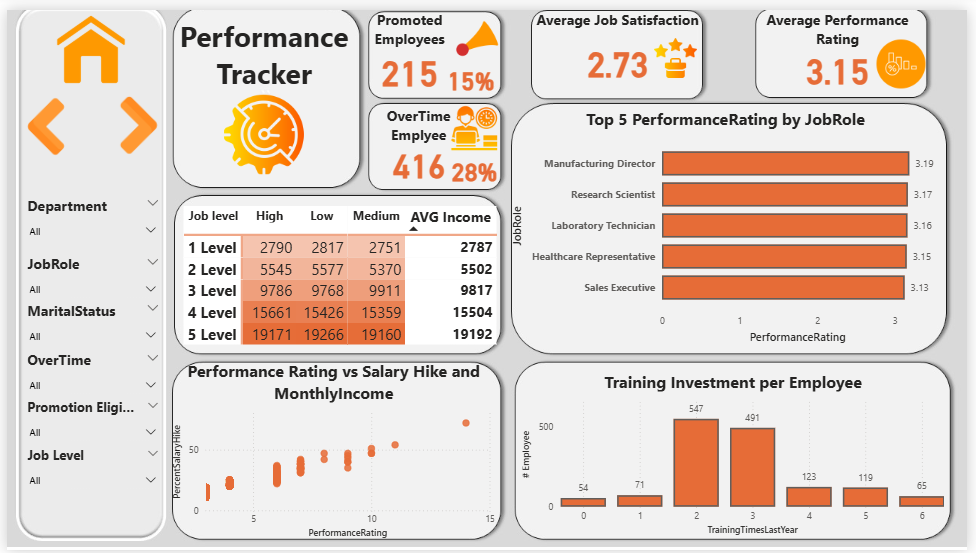

What the dashboard file says about the page in this screenshot:
{"tool":"powerbi","page":{"name":"Performance Tracker","canvas":[1280,720],"ordinal":3},"visuals":[{"type":"card","title":"# Promoted Employees","fields":{"Values":["_Measures.% Due Promotion"]},"box":[570.9,66.7,96,53.7],"z":0},{"type":"card","title":"#Overtime Employees","fields":{"Values":["_Measures.% Overtime"]},"box":[541.7,175.7,161,76.4],"z":0,"group":"g1"},{"type":"card","title":"Average Performance Rating","fields":{"Values":["_Measures.Avg Performance Rating"]},"box":[977,0,258.9,105.8],"z":1000,"group":"g3"},{"type":"scatterChart","title":"Performance Rating vs Salary Hike and MonthlyIncome","fields":{"X":["Sum(Data.PerformanceRating)"],"Y":["Sum(Data.PercentSalaryHike)"],"Category":["Data.MonthlyIncome"]},"box":[216.3,465.2,439.2,244],"z":1000},{"type":"clusteredColumnChart","title":"Training Investment per Employee ","fields":{"Y":["_Measures.Total Emp"],"Category":["Data.TrainingTimesLastYear"]},"box":[682.2,480,572.6,224.9],"z":2000},{"type":"clusteredBarChart","title":"Top 5 PerformanceRating by JobRole","fields":{"Category":["Data.JobRole"],"Y":["Avg(Data.PerformanceRating)"]},"box":[667.1,130.4,580.2,319.4],"z":3000},{"type":"card","title":"Average Job Satisfaction ","fields":{"Values":["_Measures.Avg Job Satisfaction"]},"box":[695.8,0,236.2,109.6],"z":4000,"group":"g2"},{"type":"pivotTable","title":"Satisfaction Across JobLevel & Income","fields":{"Rows":["Data.JobLevel2"],"Columns":["Data.JobSatisfaction_Level"],"Values":["_Measures.AVG Income"]},"box":[231,255.4,435.9,224.5],"z":4000},{"type":"card","title":"Promoted Employees","fields":{"Values":["_Measures.Due for Promotion"]},"box":[470.1,0,133.4,109],"z":5000},{"type":"image","box":[588.8,0,78.1,74.8],"z":6000},{"type":"textbox","box":[216.3,4.9,253.7,115.5],"z":7000},{"type":"image","box":[831.9,26.5,119.1,75.6],"z":8000,"group":"g2"},{"type":"image","box":[216.3,100.8,253.7,131.8],"z":8000},{"type":"card","title":"OverTime Emplyee","fields":{"Values":["_Measures.OverTime"]},"box":[470.1,128.5,157.8,102.5],"z":8000,"group":"g1"},{"type":"group","id":"g1","title":"Group 1","box":[470.1,120.4,232.6,131.8],"z":9000},{"type":"image","box":[1145.2,34,92.6,75.6],"z":10000,"group":"g3"},{"type":"slicer","fields":{"Values":["Data.Department"]},"box":[13,242,200,80],"z":10000},{"type":"image","box":[569.3,120.4,105.7,74.8],"z":10001,"group":"g1"},{"type":"image","box":[12.5,0,200,105],"z":11000},{"type":"image","box":[130,108,91,91],"z":12000},{"type":"image","box":[5,110,92.5,90],"z":13000},{"type":"slicer","fields":{"Values":["Data.JobRole"]},"box":[13,319.9,200,65],"z":14000},{"type":"slicer","fields":{"Values":["Data.MaritalStatus"]},"box":[13.3,382.9,200,66.7],"z":15000},{"type":"slicer","fields":{"Values":["Data.OverTime"]},"box":[13.3,447.5,200,66.7],"z":16000},{"type":"slicer","fields":{"Values":["Data.Promotion Eligible"]},"box":[13.3,512.1,200,66.7],"z":17000},{"type":"slicer","fields":{"Values":["Data.JobLevel2"]},"box":[13.3,576.7,200,66.7],"z":18000},{"type":"group","id":"g2","title":"Group 2","box":[695.8,0,255.1,109.6],"z":19000},{"type":"group","id":"g3","title":"Group 3","box":[977,0,260.8,109.6],"z":20000}]}

Visuals, with their boxes in screenshot pixels (x1, y1, x2, y2), scaled from the page's 1280x720 canvas onto the 976x553 screenshot:
"# Promoted Employees" card: region(435, 51, 509, 92)
"#Overtime Employees" card: region(413, 135, 536, 194)
"Average Performance Rating" card: region(745, 0, 942, 81)
"Performance Rating vs Salary Hike and MonthlyIncome" scatterChart: region(165, 357, 500, 545)
"Training Investment per Employee " clusteredColumnChart: region(520, 369, 957, 541)
"Top 5 PerformanceRating by JobRole" clusteredBarChart: region(509, 100, 951, 345)
"Average Job Satisfaction " card: region(531, 0, 711, 84)
"Satisfaction Across JobLevel & Income" pivotTable: region(176, 196, 509, 369)
"Promoted Employees" card: region(358, 0, 460, 84)
image: region(449, 0, 509, 57)
textbox: region(165, 4, 358, 92)
image: region(634, 20, 725, 78)
image: region(165, 77, 358, 179)
"OverTime Emplyee" card: region(358, 99, 479, 177)
"Group 1" group: region(358, 92, 536, 194)
image: region(873, 26, 944, 84)
slicer - Data.Department: region(10, 186, 162, 247)
image: region(434, 92, 515, 150)
image: region(10, 0, 162, 81)
image: region(99, 83, 169, 153)
image: region(4, 84, 74, 154)
slicer - Data.JobRole: region(10, 246, 162, 296)
slicer - Data.MaritalStatus: region(10, 294, 163, 345)
slicer - Data.OverTime: region(10, 344, 163, 395)
slicer - Data.Promotion Eligible: region(10, 393, 163, 445)
slicer - Data.JobLevel2: region(10, 443, 163, 494)
"Group 2" group: region(531, 0, 725, 84)
"Group 3" group: region(745, 0, 944, 84)
